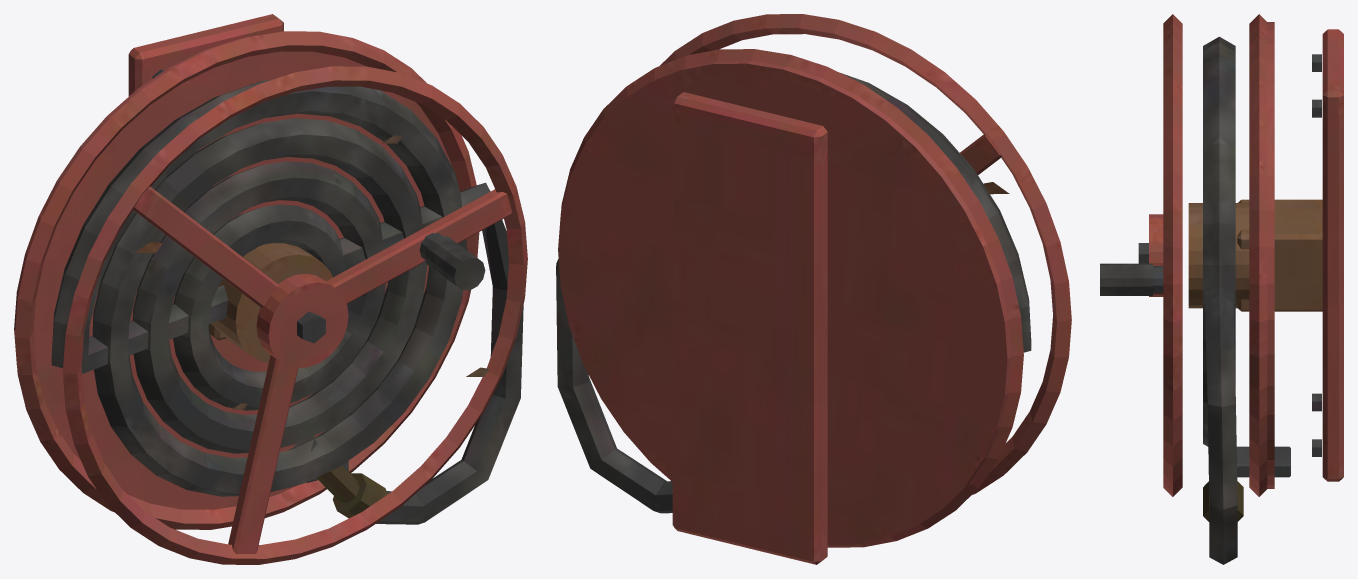
File: O28_fire_hose_reel.glb
3 views of the same model, side by side, from view 1: azimuth 30°, elevation 25°; view 2: azimuth 150°, elevation 25°; view 3: azimuth 270°, elevation 25° (orthographic). The views are drawn at different scales.
Visible parts, largest first — view 1: Wall mounting plate; view 2: Wall mounting plate; view 3: Wall mounting plate.
Part boxes in pixels (box(x1,y1,x2,y2)): Wall mounting plate: box(14, 14, 527, 564); Wall mounting plate: box(556, 14, 1071, 564); Wall mounting plate: box(1100, 14, 1343, 564).
Bounding box in the file's own units: 0.7 × 0.6978 × 0.3361.
Materials: 5 (5 with a texture image).
